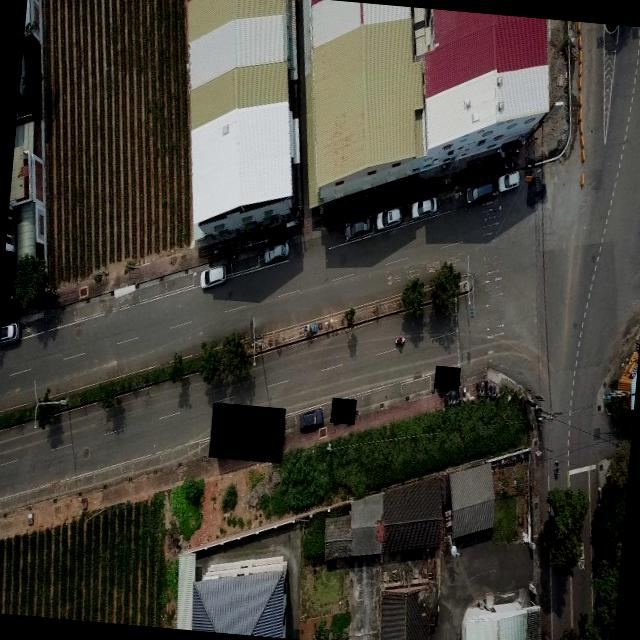car: (199, 262, 228, 290), (375, 204, 403, 232), (465, 180, 495, 206), (411, 194, 438, 222), (297, 406, 325, 432), (342, 217, 370, 243), (262, 239, 290, 264), (494, 168, 522, 192), (0, 320, 20, 346)
